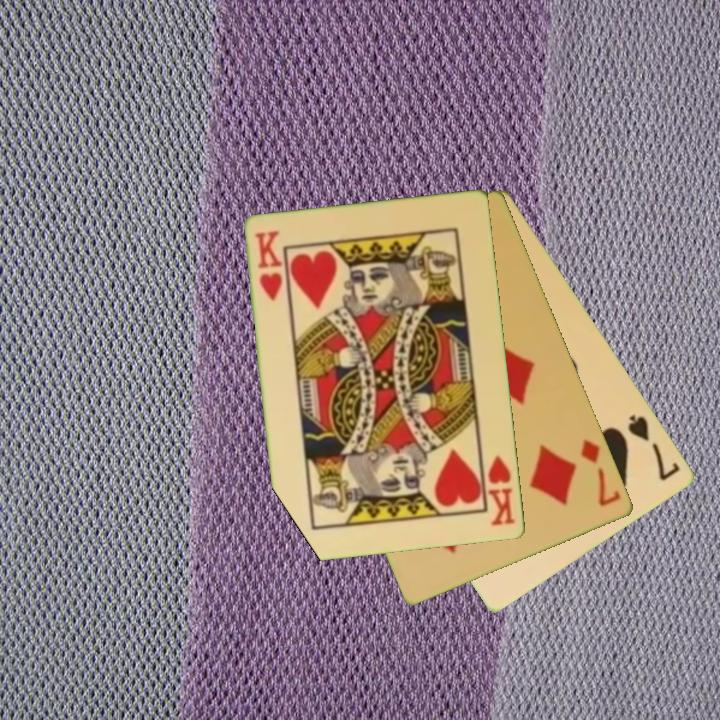7d: (577, 435, 624, 510)
7s: (624, 411, 684, 484)
Kh: (478, 448, 518, 529), (252, 227, 286, 305)
